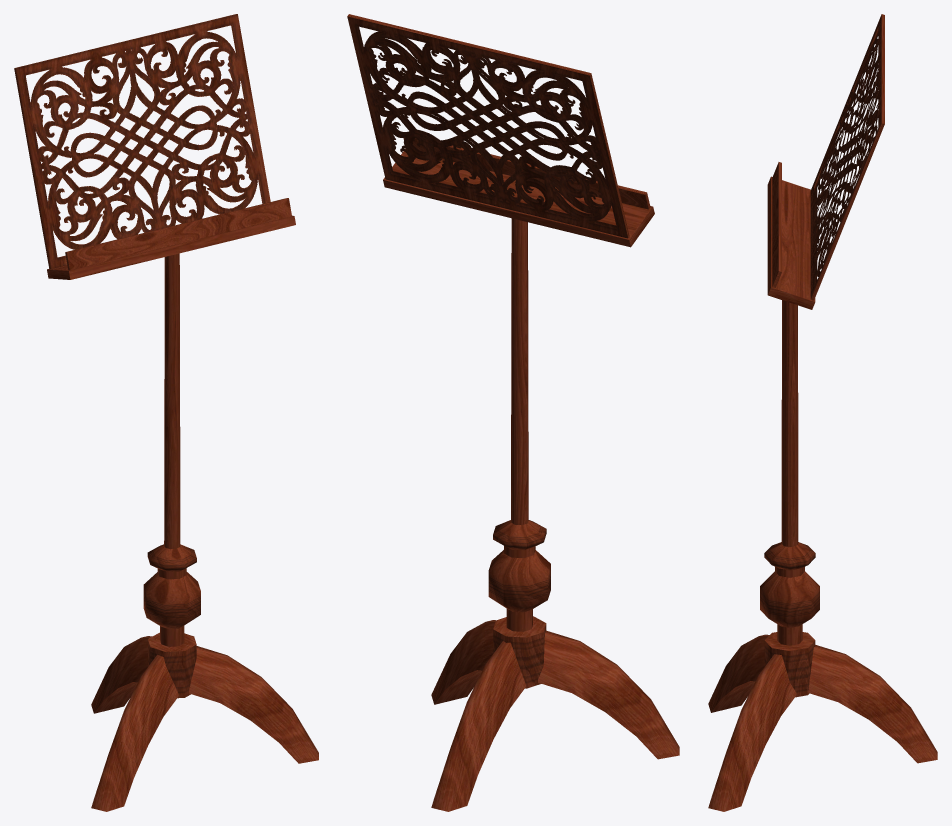
Rendered from music_stand.DAE.
3 renders of one model, left to right at view 1: azimuth 30°, elevation 25°; view 2: azimuth 150°, elevation 25°; view 3: azimuth 270°, elevation 25°, orthographic. The views are drawn at different scales.
Parts seen in each view (by area): view 1: Cylinder001; view 2: Cylinder001; view 3: Cylinder001.
Part boxes in pixels (x1,y1,x2,y2): Cylinder001: (14,14,318,811); Cylinder001: (347,14,679,811); Cylinder001: (708,14,937,811).
Bounding box in the file's own units: 0.5044 × 0.4368 × 1.44.
